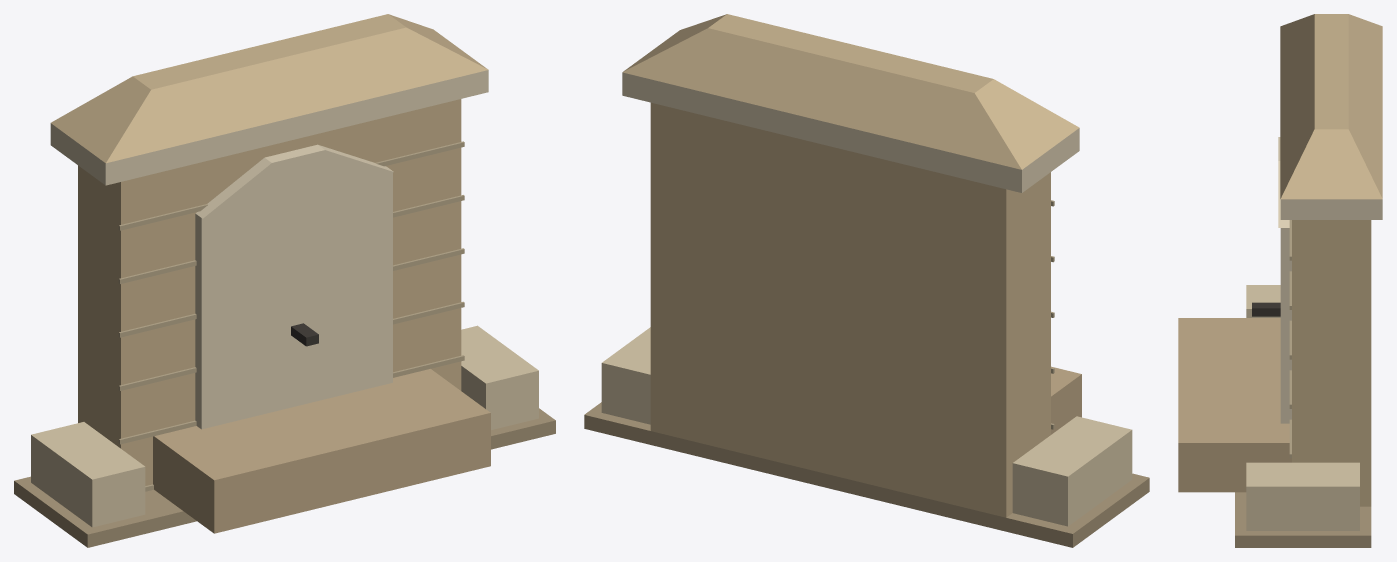
Rendered from cesme.glb.
The picture shows the model from 3 angles, left to right: view 1: azimuth 30°, elevation 25°; view 2: azimuth 150°, elevation 25°; view 3: azimuth 270°, elevation 25°; orthographic projection. The views are drawn at different scales.
Visible parts, largest first — view 1: tas2, tas4, tas3, tas1, tas_koyu, harc; view 2: tas2, tas1, tas4, tas_koyu, tas3; view 3: tas2, tas3, tas1, tas4, tas_koyu, harc, demir.
Part boxes in pixels (x1,y1,x2,y2): tas2: (51, 14, 488, 485); tas4: (50, 70, 488, 429); tas3: (153, 369, 490, 533); tas1: (31, 325, 538, 527); tas_koyu: (14, 408, 555, 547); harc: (118, 141, 464, 491); tas2: (622, 14, 1079, 517); tas1: (601, 327, 1132, 526); tas4: (622, 72, 1079, 192); tas_koyu: (584, 402, 1149, 547); tas3: (1051, 366, 1081, 434); tas2: (1280, 14, 1382, 506); tas3: (1178, 318, 1291, 492); tas1: (1246, 285, 1359, 530); tas4: (1278, 137, 1382, 423); tas_koyu: (1235, 492, 1371, 547); harc: (1289, 220, 1291, 458); demir: (1252, 302, 1280, 316).
Size of the model in its own units: 4.4 by 3.6 by 1.8.
